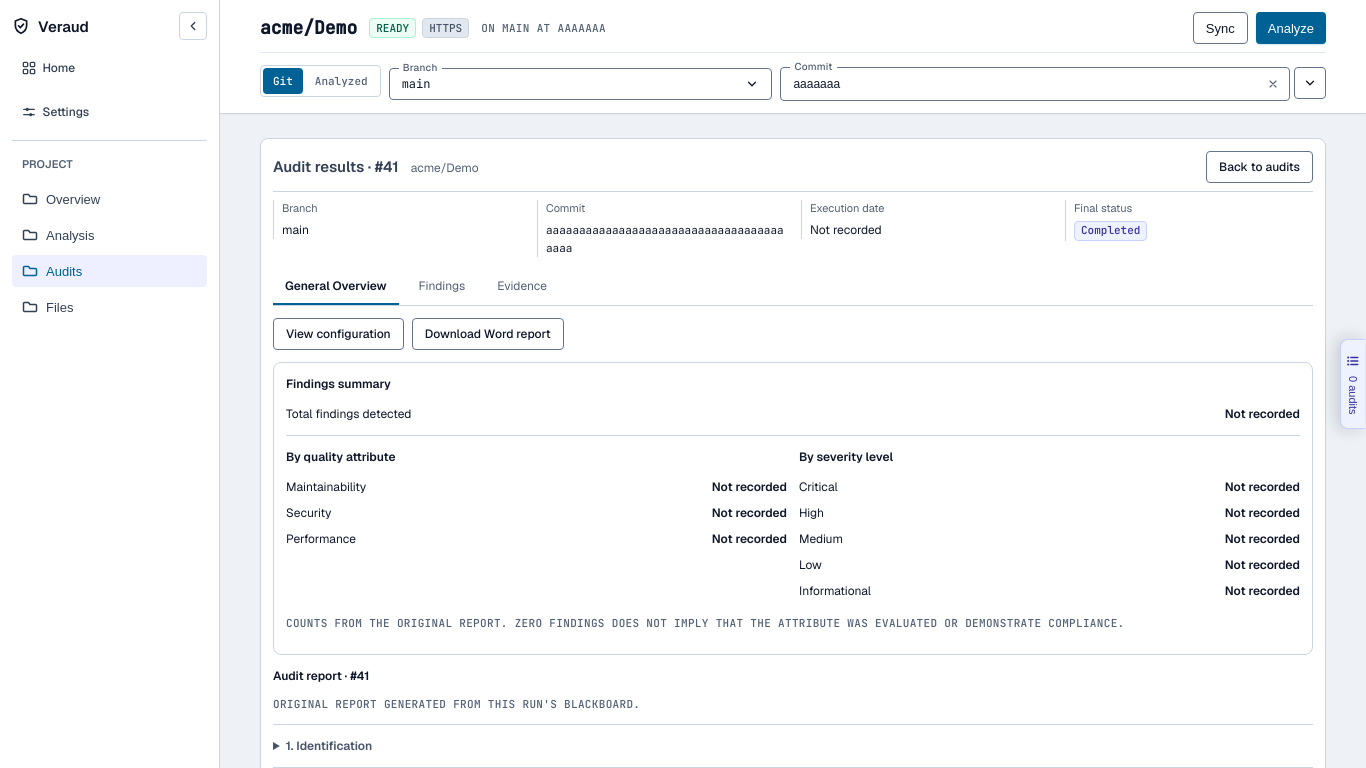
Test: ProjectDetailPage › embeds configured executed-agent evidence in the audit results tab while keeping the project context
The width and height of the screenshot is (1366, 768).
Expected: the heading "Audit report · #41" is shown, 273,668 -> 369,684
Click the tab "Evidence": (522, 286) 485,268 -> 559,304
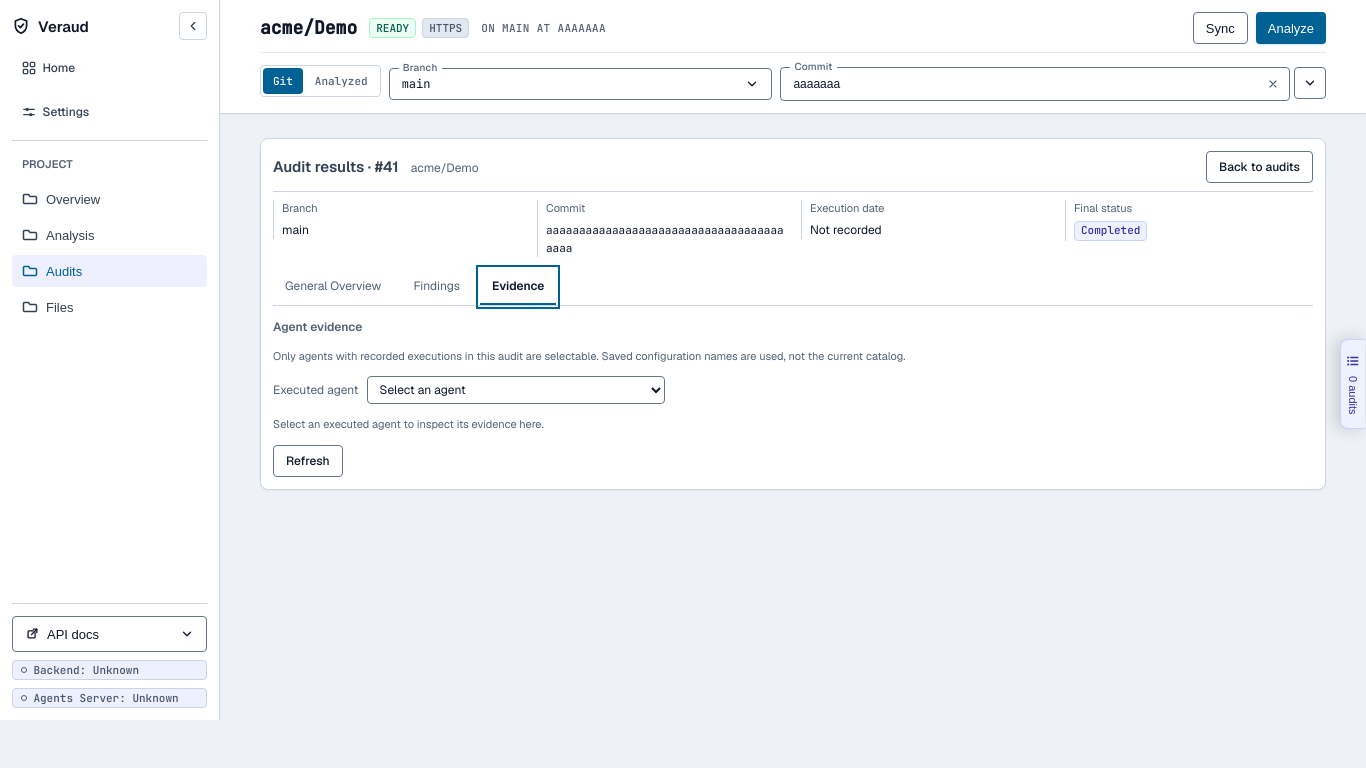
Select "Saved responsibility investigator (responsibility)" in the dropdown labelled "Executed agent": (516, 390) 366,376 -> 664,404
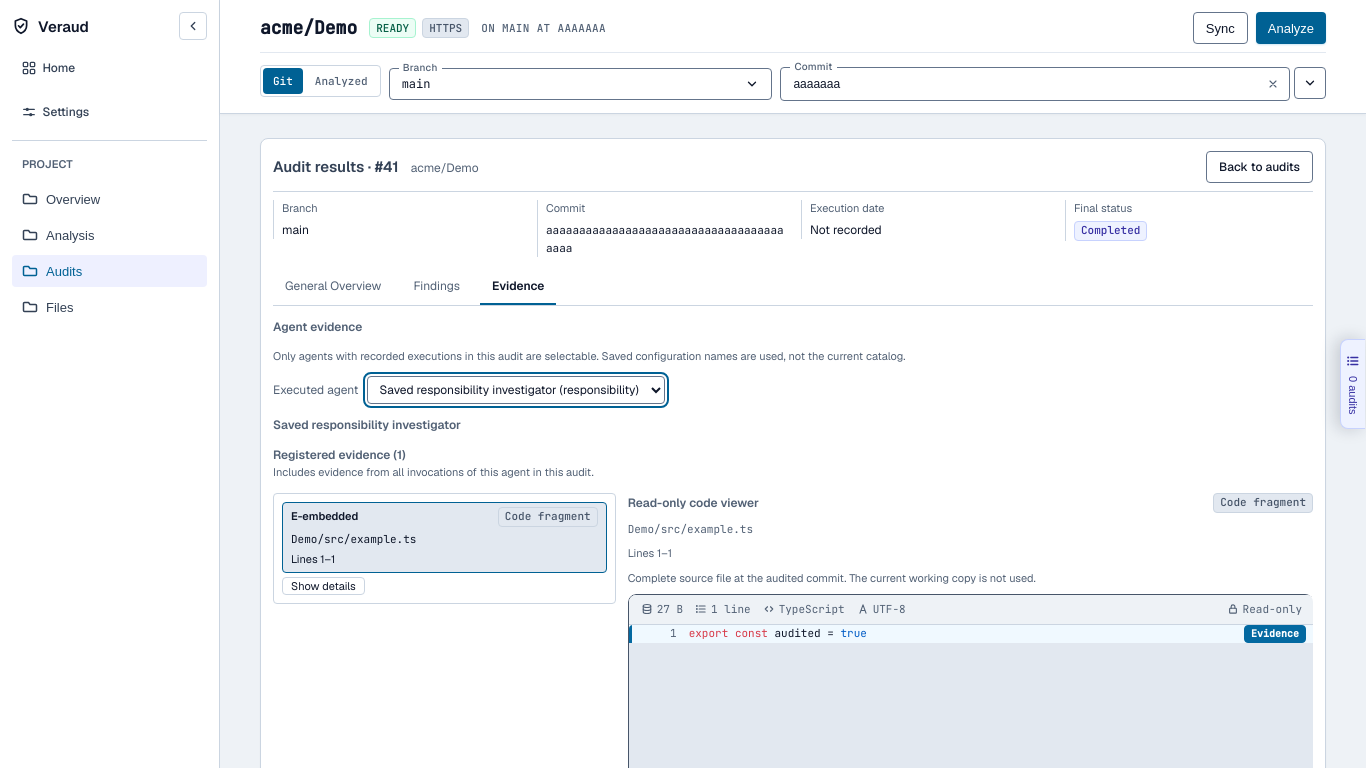
Expected: the heading "acme/Demo" is shown, 260,16 -> 357,40
Now the text "E-embedded" is shown, box 291,508 -> 358,525
Click the tab "Findings": (437, 286) 401,268 -> 472,304
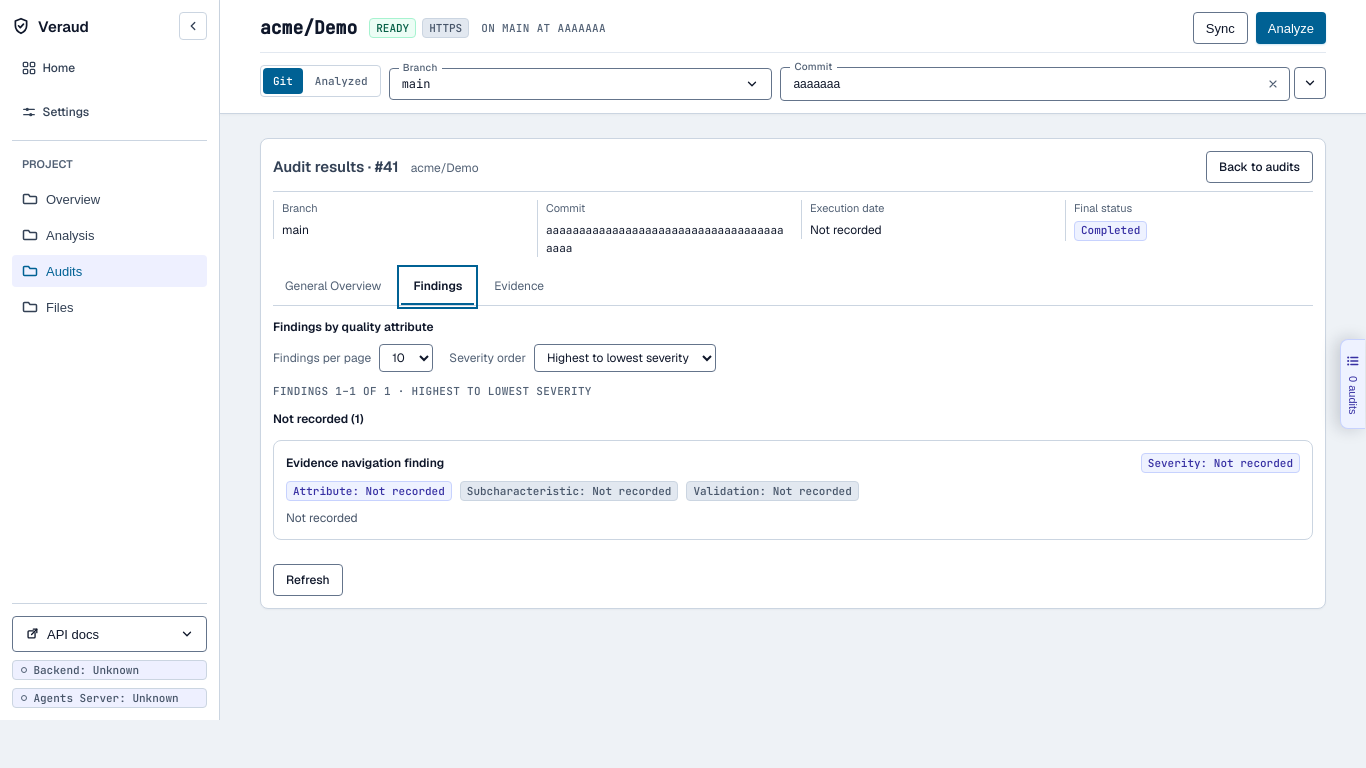
Click the button "Evidence navigation finding": (365, 463) 286,454 -> 444,472
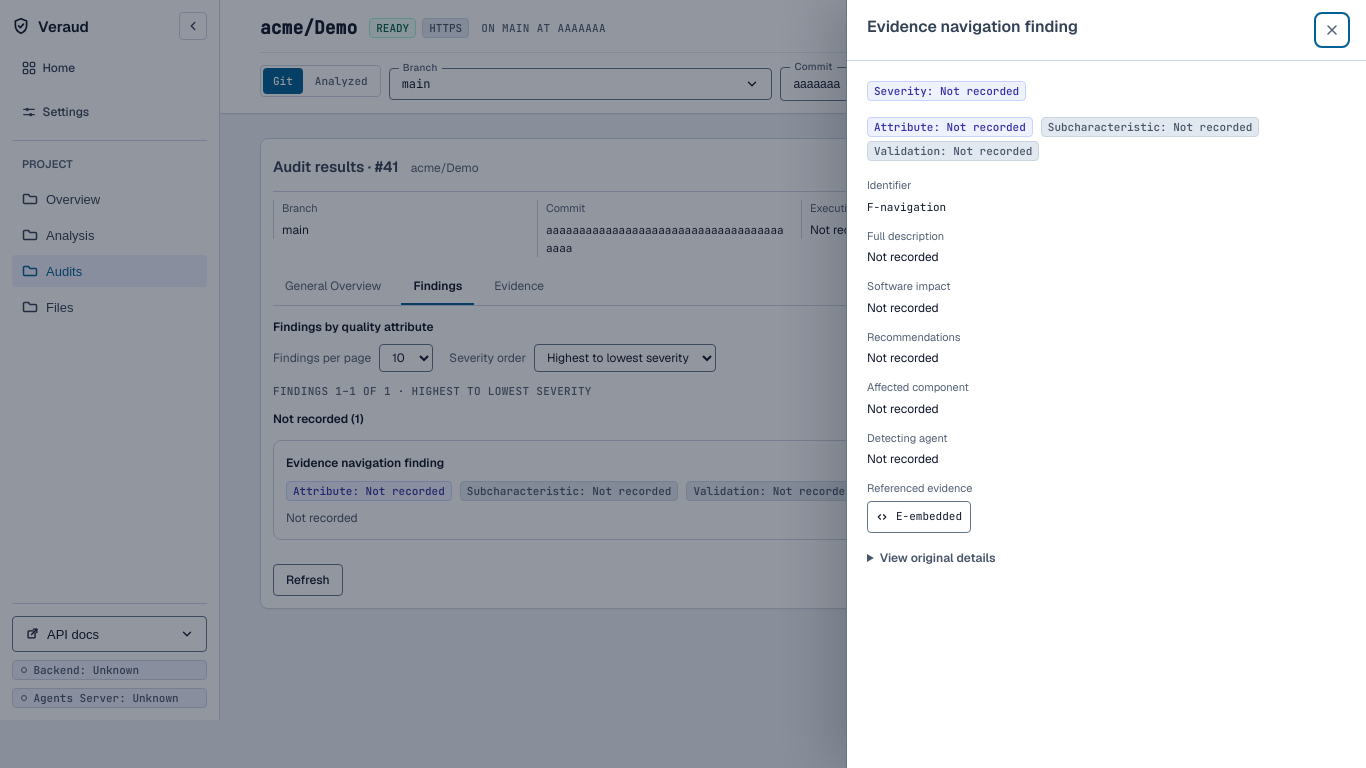
Click the link with aria-label "View evidence E-embedded": (919, 516) 867,500 -> 971,532
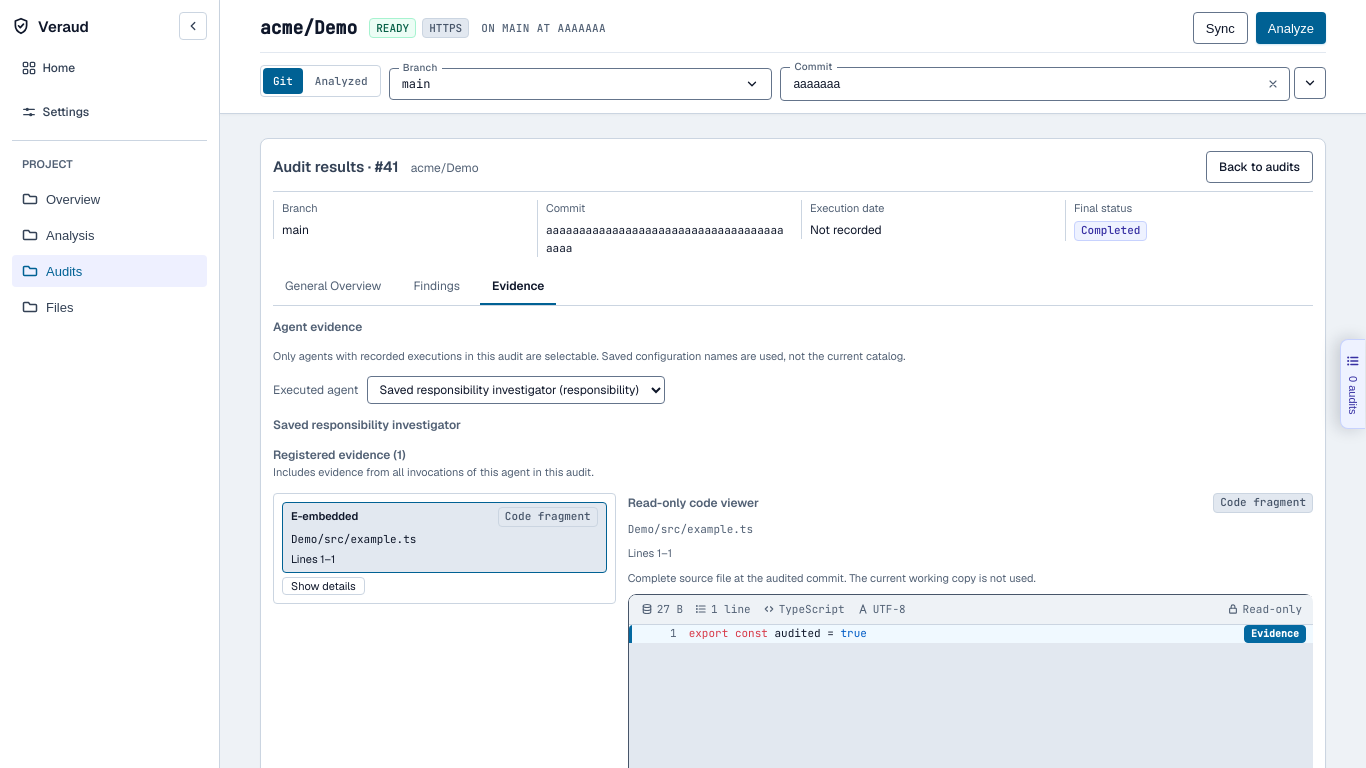
Now the dialog is gone
